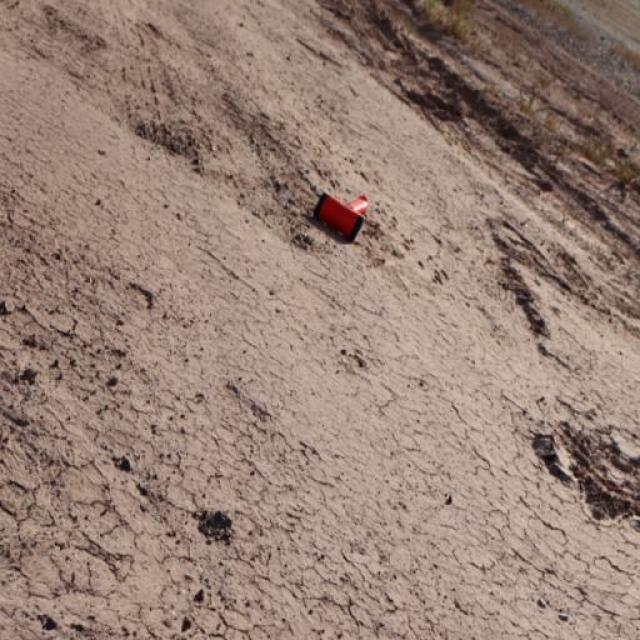mallet: (311, 190, 369, 242)
